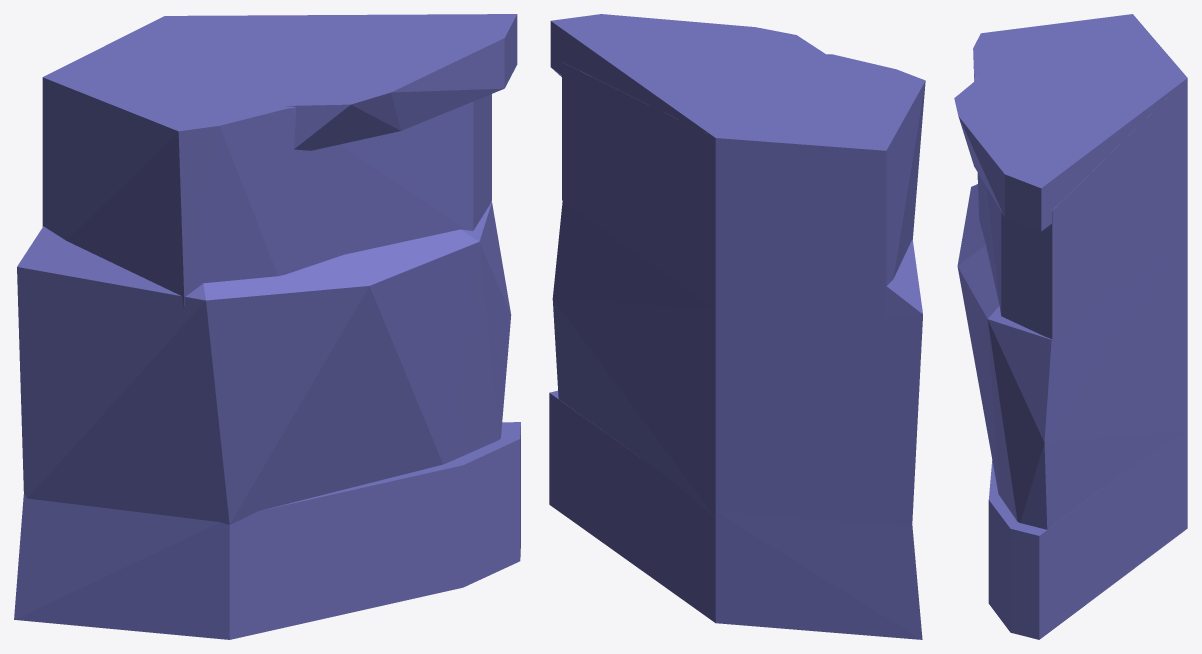
File: Cliff_Corner_01_Collider_01.FBX
3 views of the same model, side by side, from view 1: azimuth 30°, elevation 25°; view 2: azimuth 150°, elevation 25°; view 3: azimuth 270°, elevation 25° (orthographic). The views are drawn at different scales.
Visible parts, largest first — view 1: COLLIDER3, COLLIDER2, COLLIDER4, COLLIDER1; view 2: COLLIDER3, COLLIDER2, COLLIDER4, COLLIDER1; view 3: COLLIDER3, COLLIDER2, COLLIDER4, COLLIDER1.
Part boxes in pixels (left/top/right/bottom): COLLIDER3: left=17, top=202, right=511, bottom=524; COLLIDER2: left=42, top=16, right=491, bottom=312; COLLIDER4: left=14, top=422, right=520, bottom=639; COLLIDER1: left=165, top=14, right=517, bottom=150; COLLIDER3: left=552, top=201, right=922, bottom=526; COLLIDER2: left=562, top=54, right=925, bottom=321; COLLIDER4: left=549, top=390, right=922, bottom=639; COLLIDER1: left=550, top=14, right=829, bottom=137; COLLIDER3: left=957, top=184, right=1187, bottom=529; COLLIDER2: left=973, top=14, right=1187, bottom=339; COLLIDER4: left=988, top=431, right=1187, bottom=639; COLLIDER1: left=954, top=77, right=1187, bottom=231.
Bounding box in the file's own units: 596 × 660 × 310.
